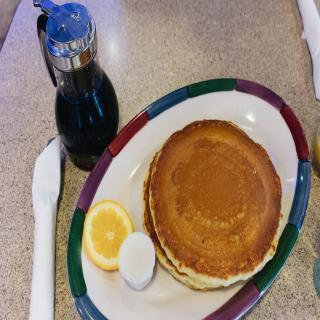Pancake: (149, 121, 282, 284), (141, 161, 210, 292)
